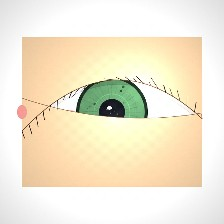hemorrhage_spot: (47, 93, 134, 163)
